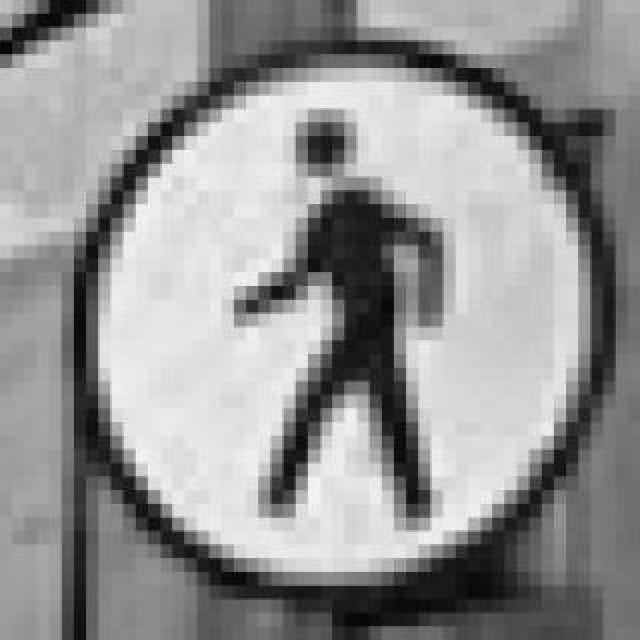pedestrian crossing: (62, 28, 602, 600)
